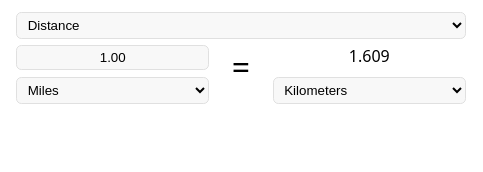
Test: should correctly update controls when category changes
Note: Change category
Select "Time" in the dropdown named "Selected unit category" at [241, 26], box [16,12,466,39]
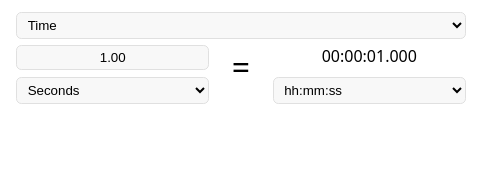
Expected: the dropdown named "Input units" shows "Seconds", [16,77,210,104]
Expected: the dropdown named "Output units" shows "hh:mm:ss", [272,77,466,104]
Note: Change category
Select "Speed & Pace" in the dropdown named "Selected unit category" at [241, 26], box [16,12,466,39]
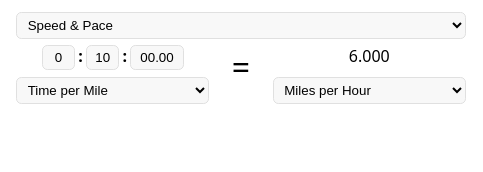
Expected: the dropdown named "Input units" shows "Time per Mile", [16,77,210,104]
Expected: the dropdown named "Output units" shows "Miles per Hour", [272,77,466,104]
Note: Change category
Select "Distance" in the dropdown named "Selected unit category" at [241, 26], box [16,12,466,39]
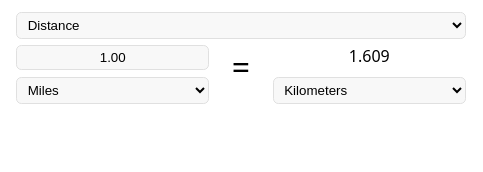
Expected: the dropdown named "Input units" shows "Miles", [16,77,210,104]
Expected: the dropdown named "Output units" shows "Kilometers", [272,77,466,104]
